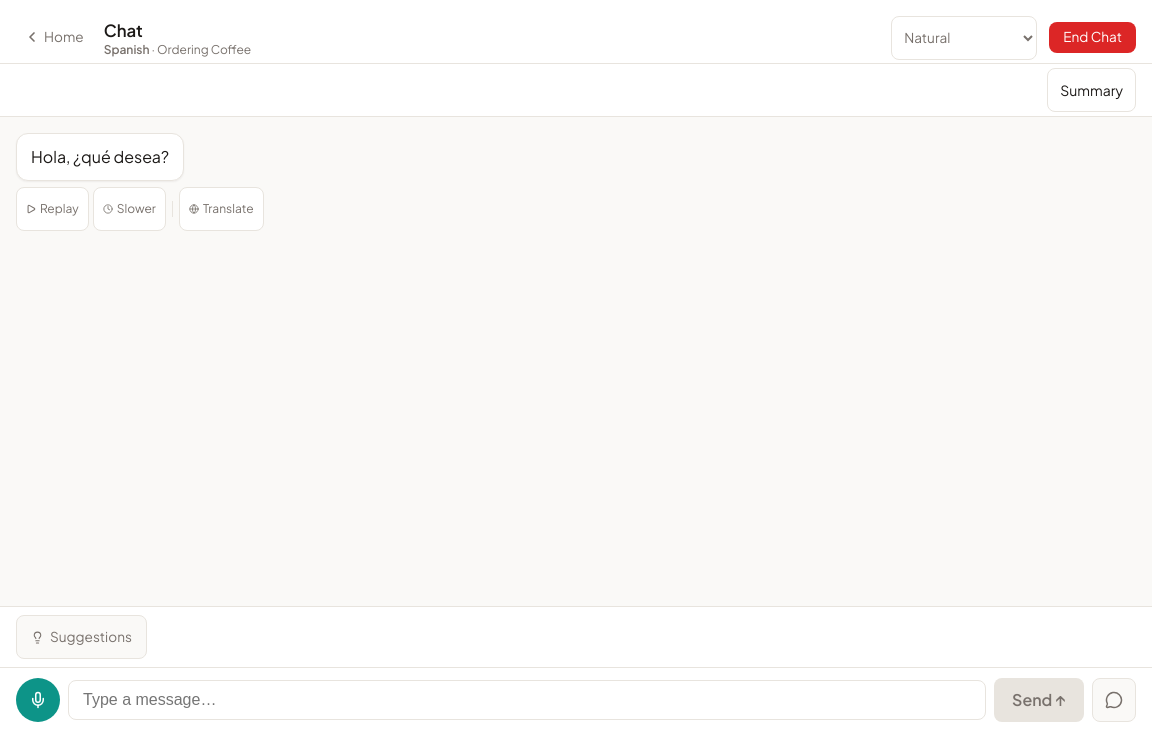
Test: Chat — feedback frame and retry composer (T055) › attaches a correction to the learner message it belongs to
Type "yo querer un cafe" into the field labelled "Type a message" at (527, 700), box [68,680,986,720]
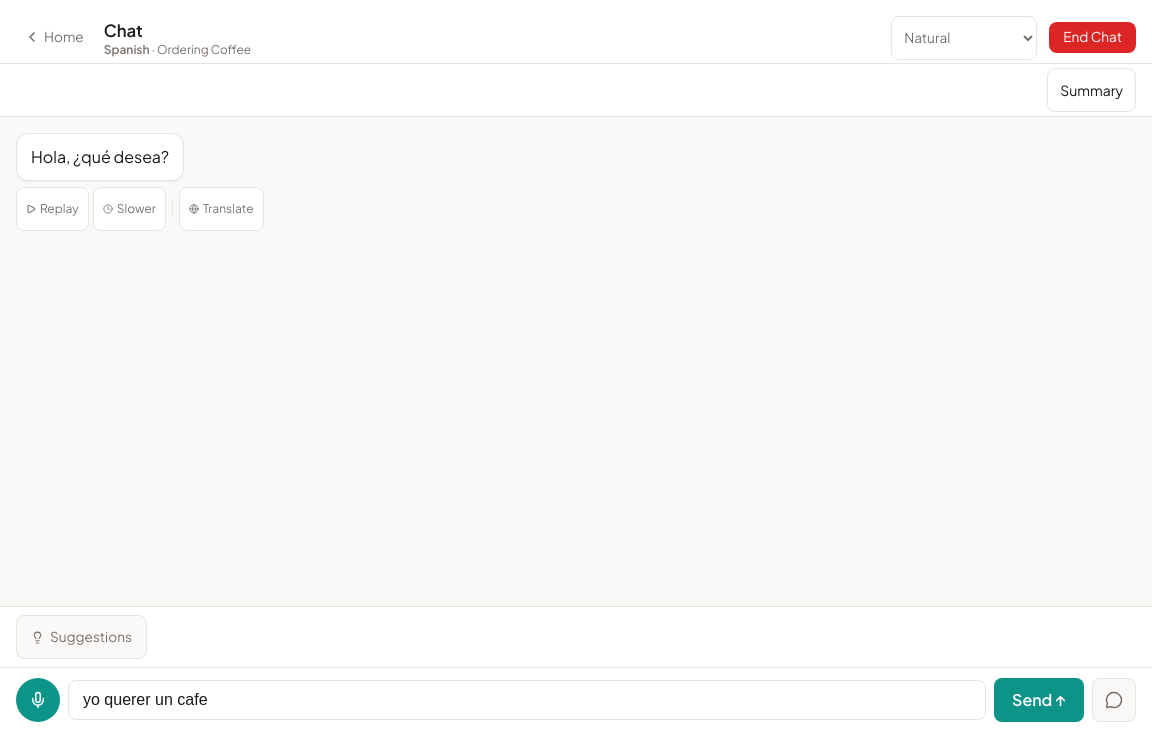
Click the button with aria-label "Send message" at (1039, 700), box [994,678,1084,722]
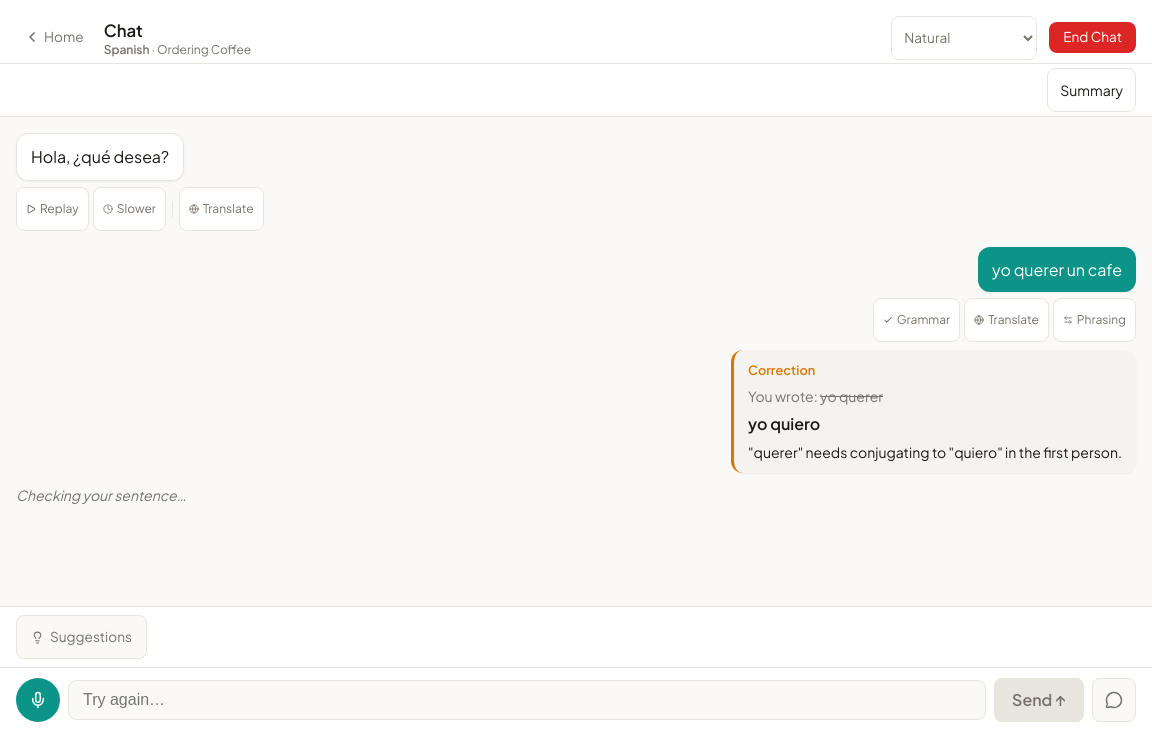
Expected: the text "yo quiero" is shown, [748,413,820,434]
Expected: the element named "Learning feedback" is shown, [731,350,1136,473]
